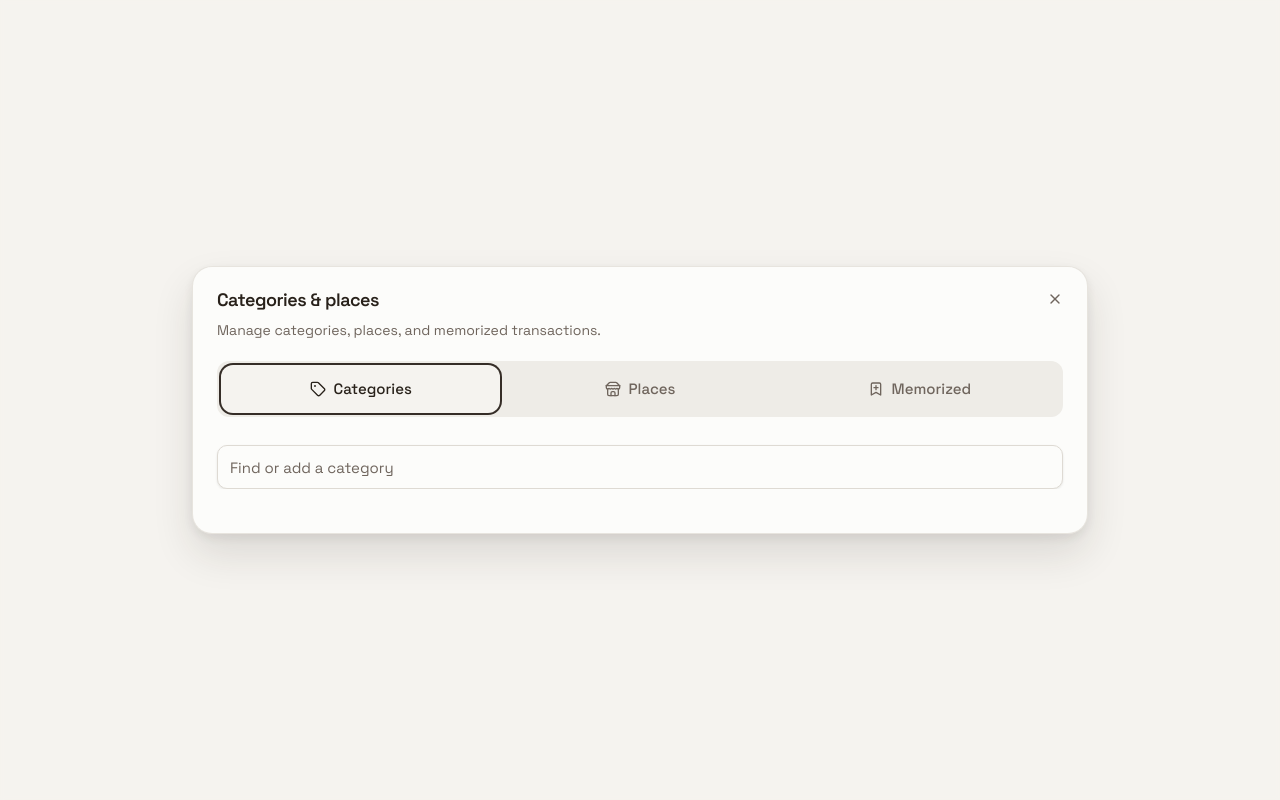
Test: categories and places manager (MOB-R91 D) › Delete place asks "Delete this place?", deletes, and returns to the list
What coordinates should you click on to do the following:
click the button "Places"
I would click on:
 (640, 389)
Its box is [502, 367, 778, 411].
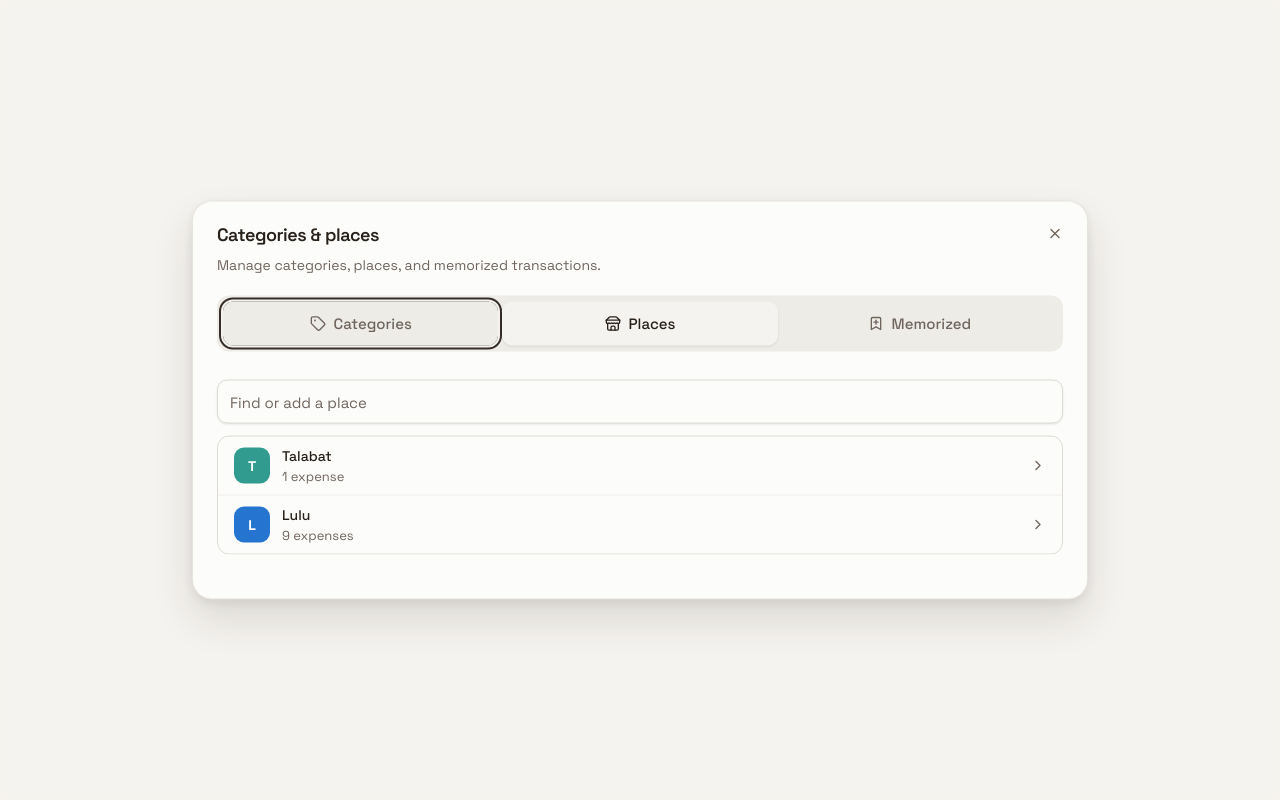
What coordinates should you click on to do the following:
click the button "L Lulu 9 expenses"
I would click on:
 (252, 524)
Its box is [218, 496, 1062, 554].
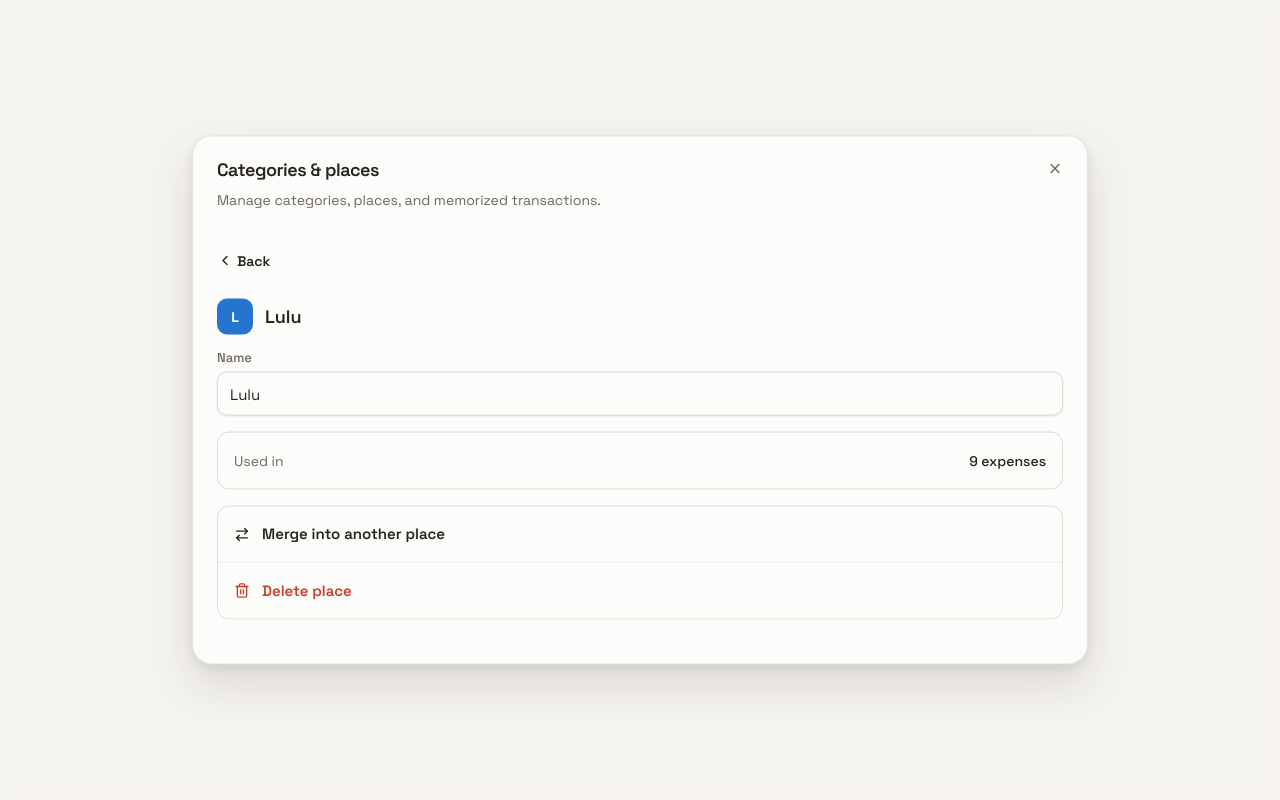
What coordinates should you click on to do the following:
click the button "Delete place"
I would click on:
 (307, 590)
Its box is [218, 562, 1062, 618].
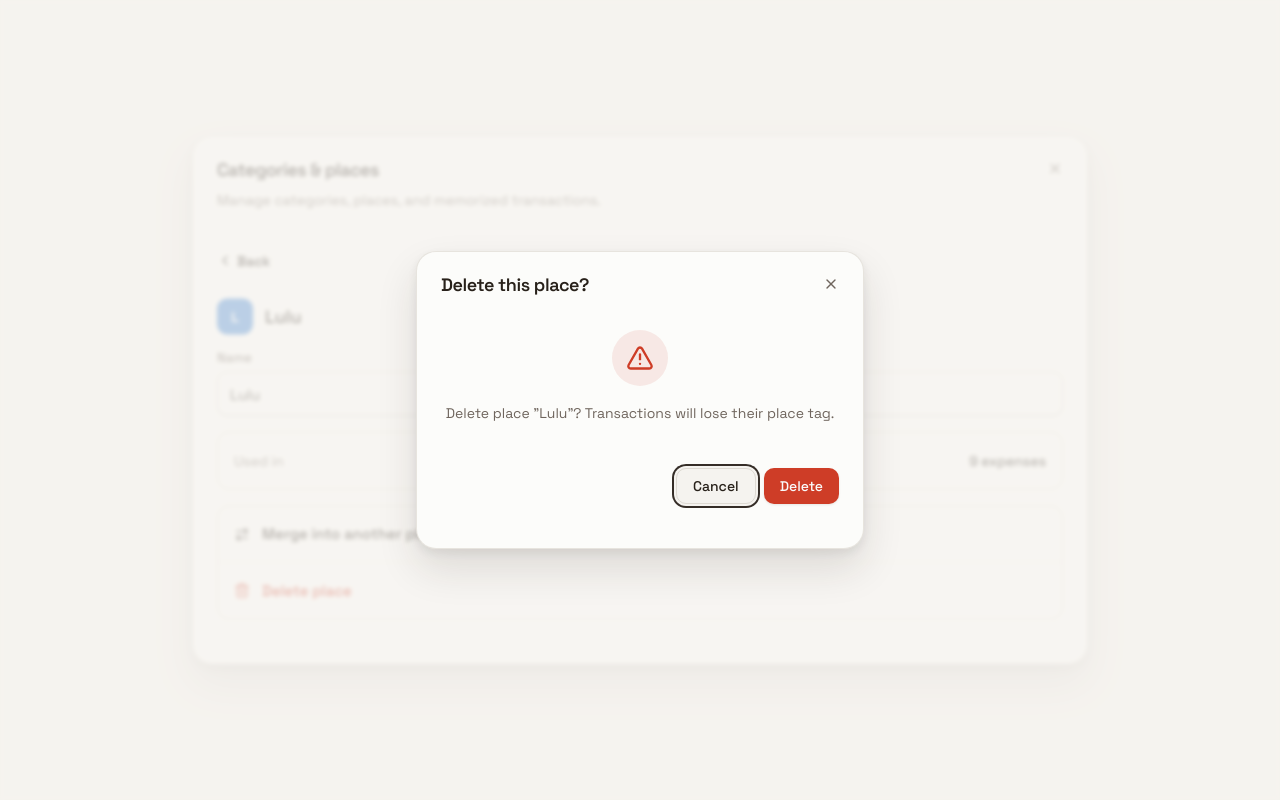
What coordinates should you click on to do the following:
click the button "Delete"
I would click on:
 (801, 486)
Its box is [764, 468, 839, 504].
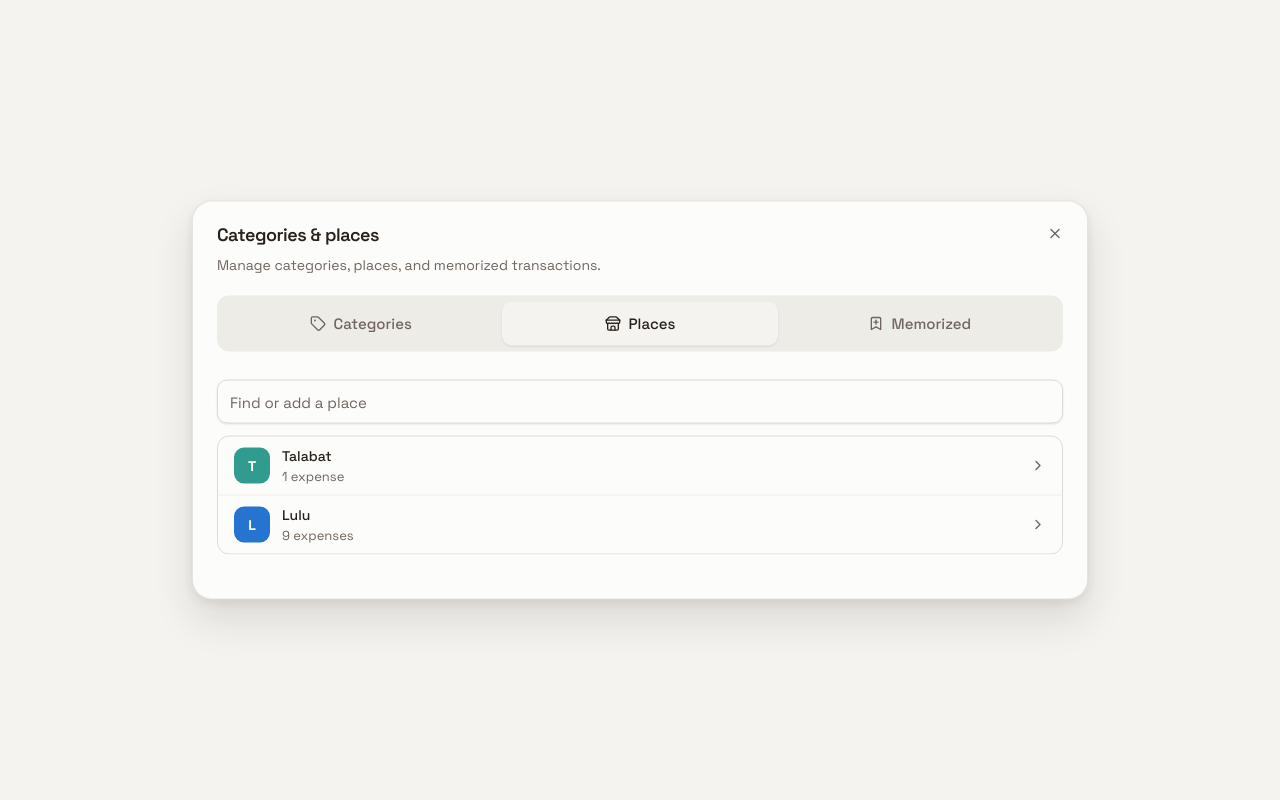
Result: the field labelled "Find or add a place" is shown at [217, 380, 1063, 424]
